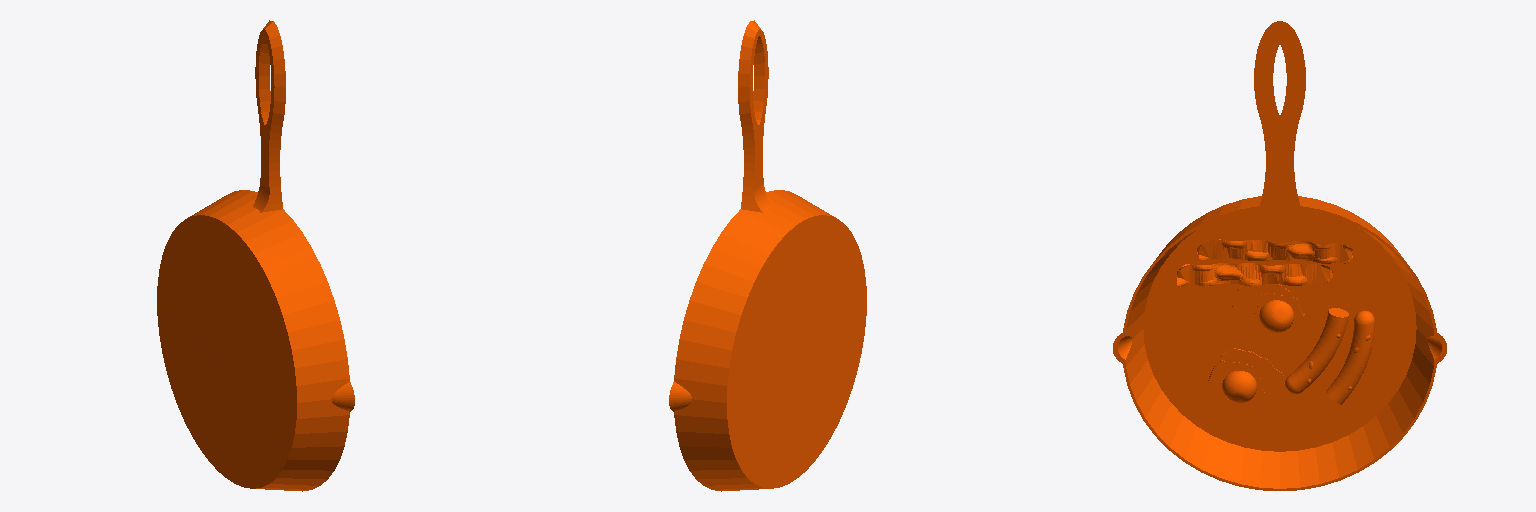
The robot description file, URDF, robot "2024-09-16_4_Pan_6b":
<?xml version="1.0" ?>
<robot name="2024-09-16_4_Pan_6b">
   <material name="obj_color">
      <color rgba="1.0 0.423529411765 0.0392156862745 1.0"/>
   </material>
   <link name="top">
      <inertial>
         <origin rpy="-0.0004059623661818579 -0.0002549930948236813 -0.0001617572608001828" xyz="0.006353926246133201 0.07319877097137749 0.07328048789630344"/>
         <mass value="-0.1355136748462373"/>
         <inertia ixx="-0.000405238140920646" ixy="3.601697468034939e-07" ixz="1.326163253619333e-05" iyy="-0.0002549201335067815" iyz="-2.660607014167944e-06" izz="-0.0001625544473782942"/>
      </inertial>
      <visual>
         <origin rpy="0 0 0" xyz="0 0 0"/>
         <geometry>
            <mesh filename="top_watertight_tiny.stl" scale="1 1 1"/>
         </geometry>
         <material name="obj_color"/>
      </visual>
      <collision>
         <origin rpy="0 0 0" xyz="0 0 0"/>
         <geometry>
            <mesh filename="top_watertight_tiny.obj" scale="1 1 1"/>
         </geometry>
      </collision>
   </link>
   <link name="bottom">
      <inertial>
         <origin rpy="1.633333333199431e-08 1.633333333199431e-08 1.633333333362855e-08" xyz="0.3464080000000008 0.3464080000000008 0.3464080000000008"/>
         <mass value="0.0009800000000000017"/>
         <inertia ixx="1.633333333253906e-08" ixy="5.447480642029219e-19" ixz="5.447480642029219e-19" iyy="1.633333333253906e-08" iyz="5.447480642029219e-19" izz="1.633333333253906e-08"/>
      </inertial>
      <visual>
         <origin rpy="0 0 0" xyz="0 0 0"/>
         <geometry>
            <mesh filename="bottom_watertight_tiny.stl" scale="1 1 1"/>
         </geometry>
         <material name="obj_color"/>
      </visual>
   </link>
   <joint name="rotation" type="revolute">
      <origin xyz="0 0 0"/>
      <axis xyz="0 0 -1"/>
      <parent link="bottom"/>
      <child link="top"/>
      <dynamics damping="1.0" friction="1.0"/>
      <limit effort="0.1" velocity="0.1" lower="0" upper="0.001"/>
   </joint>
</robot>

--- What the picture shows (computed from the rendered views, not written in the file) ---
The picture shows the robot from 3 angles, left to right: view 1: azimuth 30°, elevation 25°; view 2: azimuth 150°, elevation 25°; view 3: azimuth 270°, elevation 25°; orthographic projection.
Robot: 2024-09-16_4_Pan_6b — 2 links, 1 joints (1 revolute); root link bottom; default pose: every joint at zero.
Visible links, largest first — view 1: top; view 2: top; view 3: top.
Boxes of the visible links, x1,y1,x2,y2 form: top: (157,20,354,491); top: (669,20,866,491); top: (1113,21,1446,490).
Size in the robot's own frame: 0.0234 by 0.1434 by 0.2226 metres.
Meshes: 2 distinct files referenced, 1 mesh visuals loaded (1 binary STL); not drawn: 1 (reference not matched to a file when rendering).
